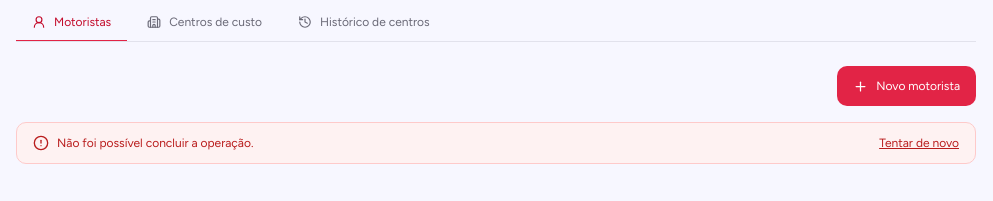
Test: Cadastros: erros de carga e de ação ficam separados › uma falha ao carregar oferece 'Tentar de novo' e recarrega a lista
Click the button "Tentar de novo": click(919, 143) [879,135,959,151]
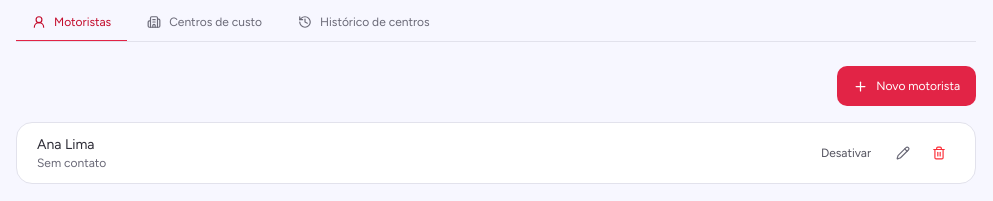
Now the text "Ana Lima" is shown, box [37,136,94,153]
